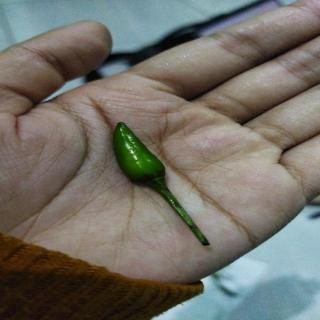Cabai Hijau: (109, 118, 216, 250)
